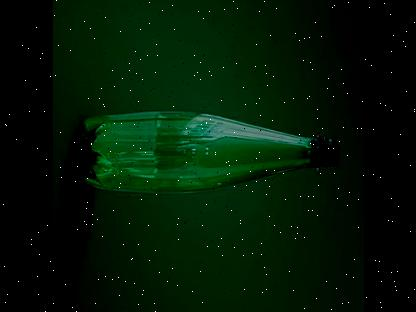Plastic Bottle: (72, 108, 342, 196)
